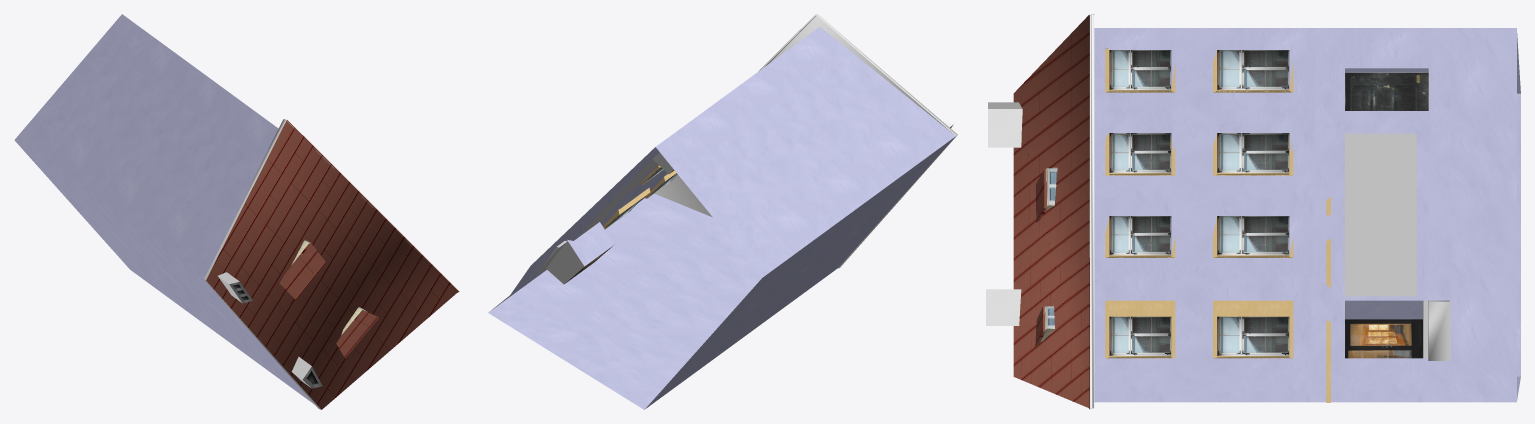
Rendered from Voorimehe_7-origo.obj.
3 views of the same model, side by side, from view 1: azimuth 30°, elevation 25°; view 2: azimuth 150°, elevation 25°; view 3: azimuth 270°, elevation 25° (orthographic). The views are drawn at different scales.
Parts seen in each view (by area): view 1: Voorimehe_7; view 2: Voorimehe_7; view 3: Voorimehe_7.
Part boxes in pixels (x1=…): Voorimehe_7: x1=14, y1=14, x2=459, y2=409; Voorimehe_7: x1=488, y1=14, x2=957, y2=409; Voorimehe_7: x1=986, y1=14, x2=1520, y2=409.
Size of the model in its own units: 13.12 by 12 by 16.27.
